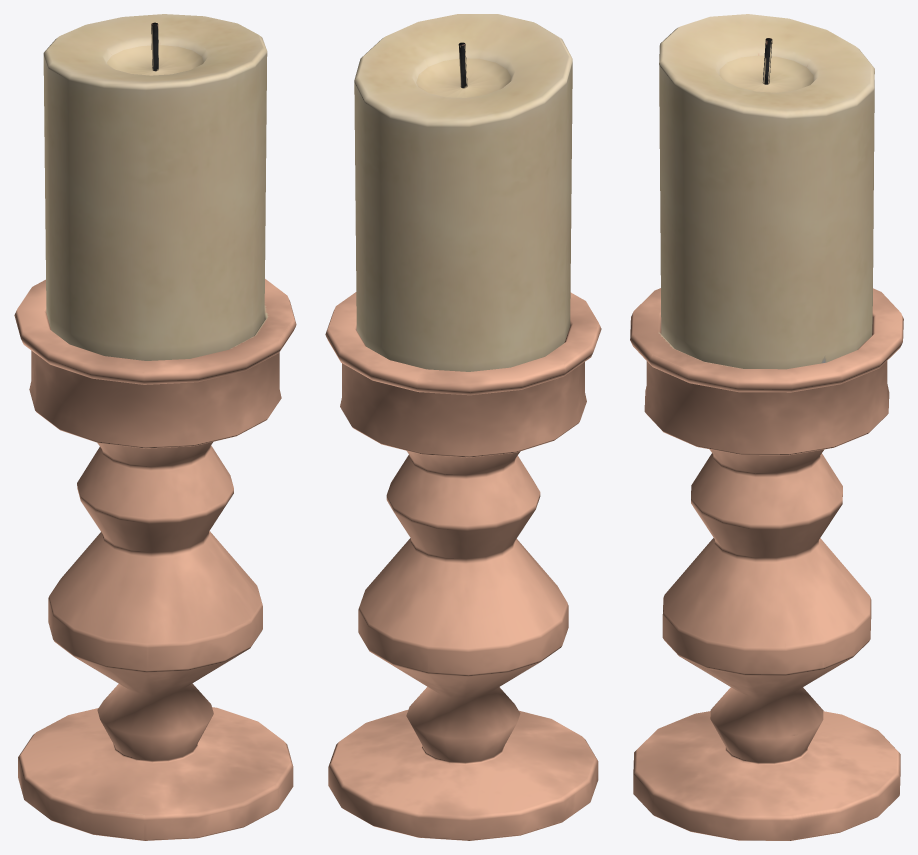
3 renders of one model, left to right at view 1: azimuth 30°, elevation 25°; view 2: azimuth 150°, elevation 25°; view 3: azimuth 270°, elevation 25°, orthographic. The views are drawn at different scales.
Parts seen in each view (by area): view 1: candle_01; view 2: candle_01; view 3: candle_01.
Part boxes in pixels (<box>): candle_01: <box>14,14,296,840</box>; candle_01: <box>325,14,601,840</box>; candle_01: <box>630,14,903,840</box>.
Size of the model in its own units: 0.062 by 0.1864 by 0.062.
